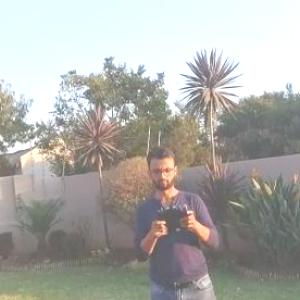follow: (126, 137, 223, 299)
